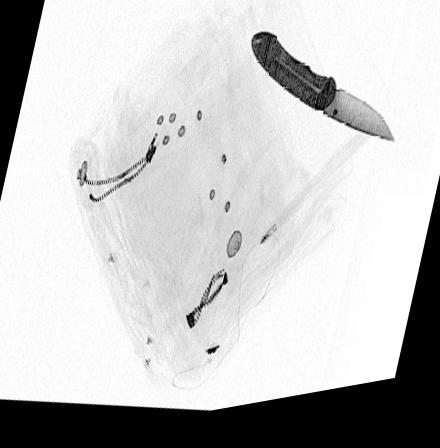Knife: (248, 40, 394, 156)
